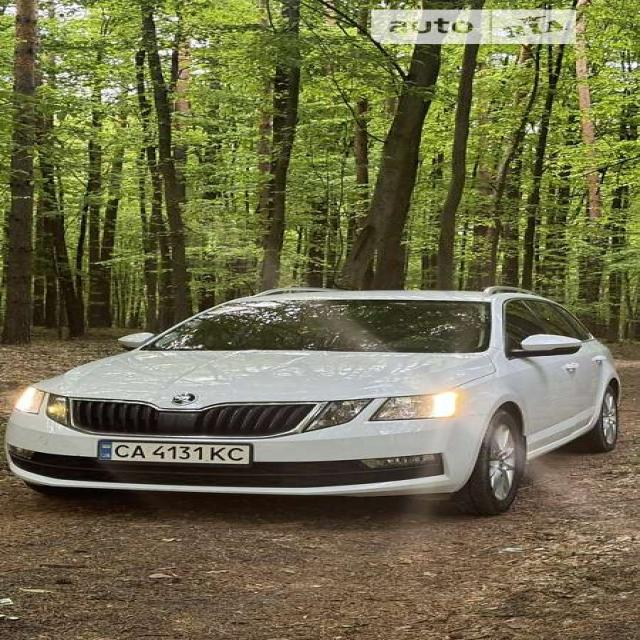plate: (93, 433, 264, 470)
